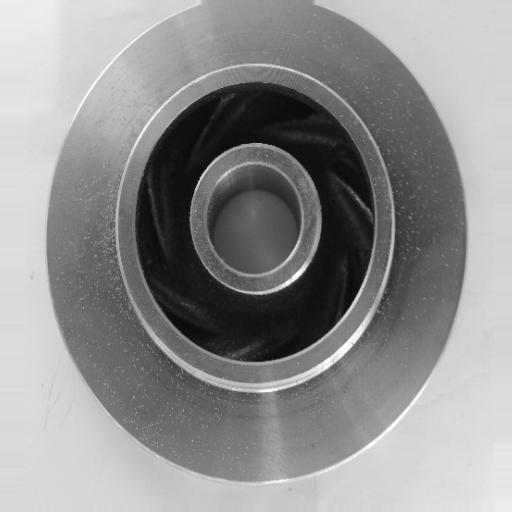polished_casting: (47, 0, 469, 488)
